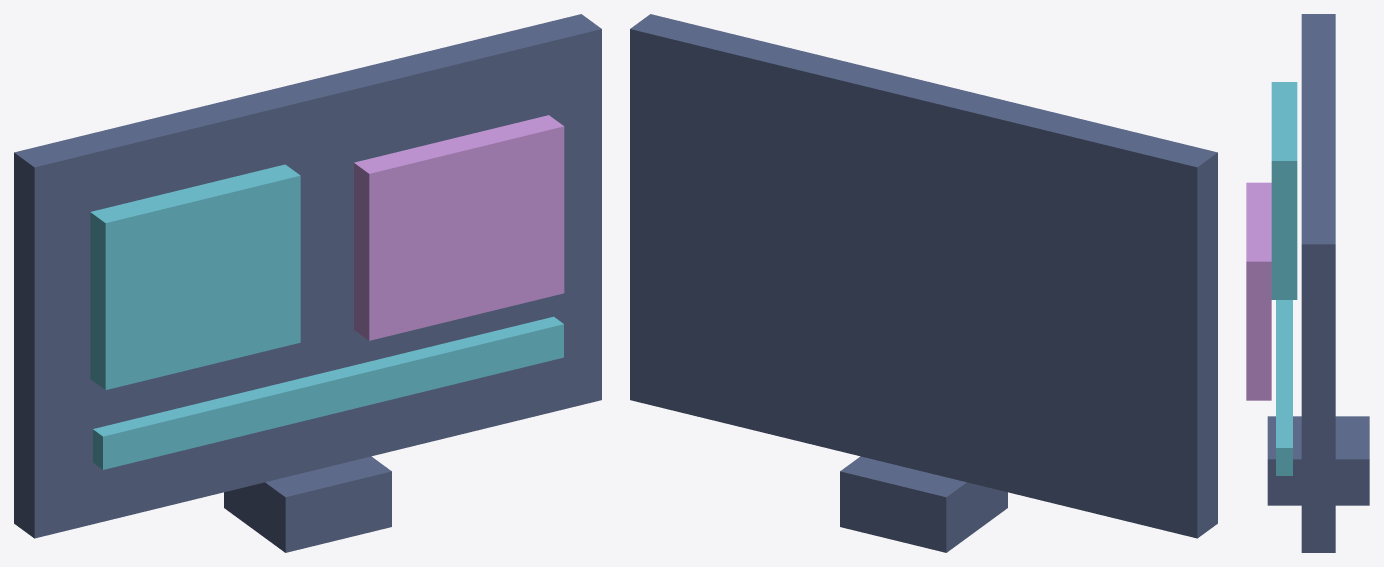
File: saas.glb
The picture shows the model from 3 angles, left to right: view 1: azimuth 30°, elevation 25°; view 2: azimuth 150°, elevation 25°; view 3: azimuth 270°, elevation 25°; orthographic projection. The views are drawn at different scales.
Visible parts, largest first — view 1: screen, card-left, card-right, bar, foot; view 2: screen, foot; view 3: screen, card-left, card-right, foot, bar.
Boxes of the visible parts, x1,y1,x2,y2 form: screen: (14,14,601,538); card-left: (90,164,300,390); card-right: (354,115,564,340); bar: (93,316,563,469); foot: (224,456,391,552); screen: (630,14,1217,538); foot: (840,456,1007,552); screen: (1301,14,1335,552); card-left: (1271,82,1297,299); card-right: (1246,182,1271,400); foot: (1267,416,1369,505); bar: (1276,300,1292,475).
Bounding box in the file's own units: 3.2 × 2.3 × 0.725.
